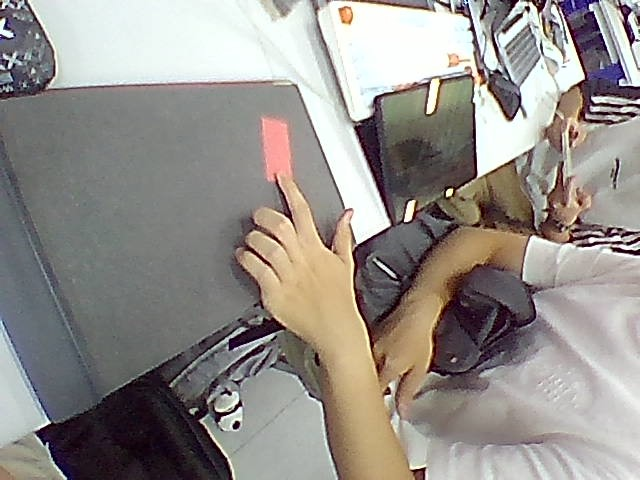card: (262, 117, 291, 181)
